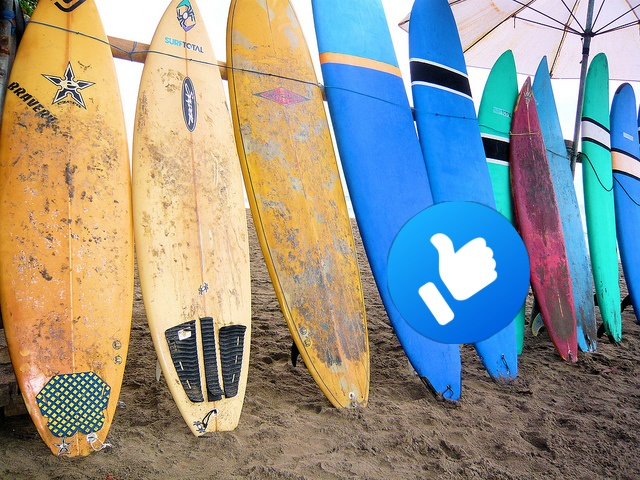like: (387, 201, 530, 344)
